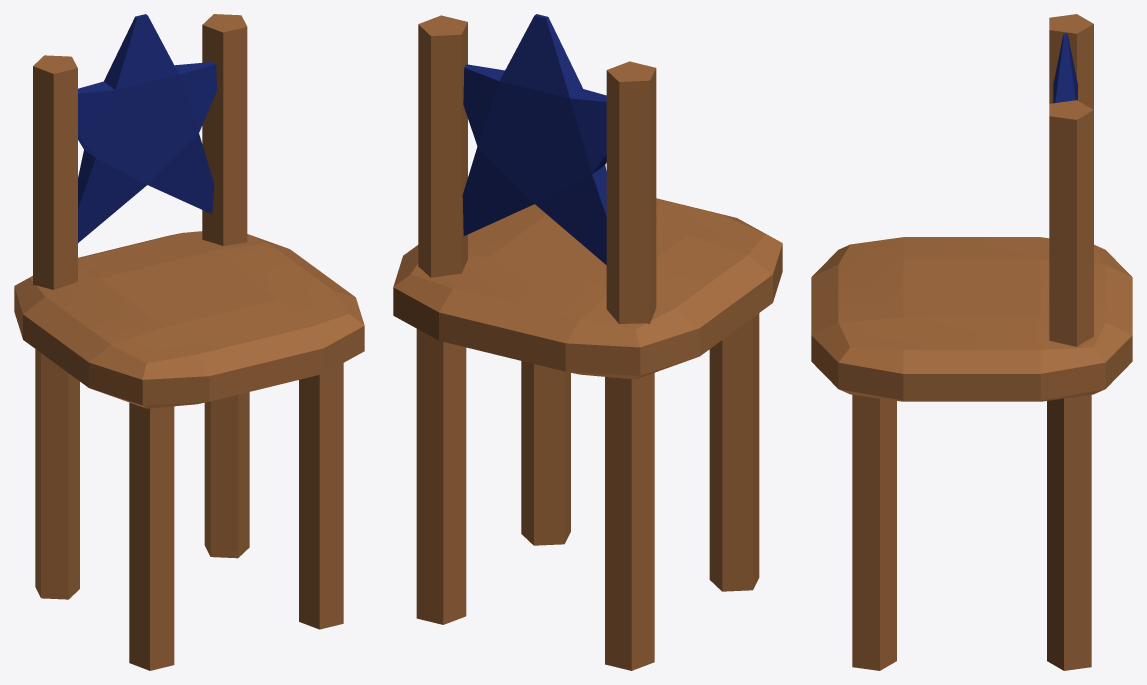
The model's file is cadeiraazul.fbx.
3 renders of one model, left to right at view 1: azimuth 30°, elevation 25°; view 2: azimuth 150°, elevation 25°; view 3: azimuth 270°, elevation 25°, orthographic. The views are drawn at different scales.
Parts seen in each view (by area): view 1: Cylinder; view 2: Cylinder; view 3: Cylinder.
Boxes of the visible parts, box(x1,y1,x2,y2) form: Cylinder: box(14, 14, 364, 670); Cylinder: box(393, 14, 782, 670); Cylinder: box(811, 14, 1132, 670).
Size of the model in its own units: 306 by 611 by 306.
